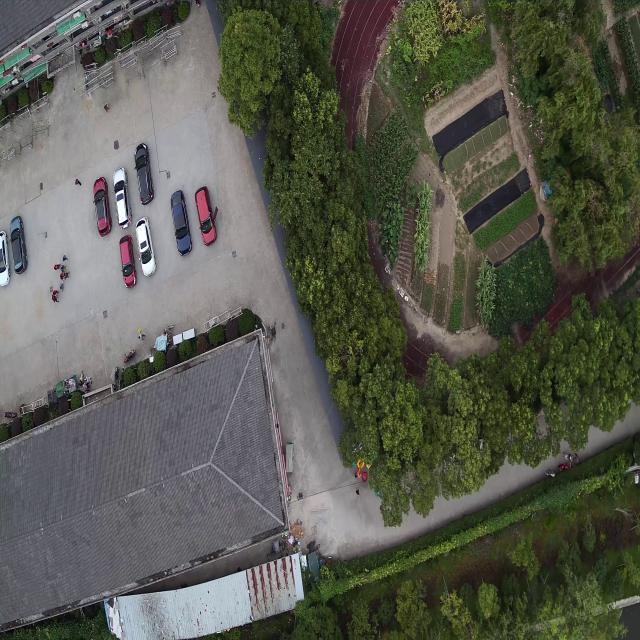UAV: (309, 507, 331, 526)
